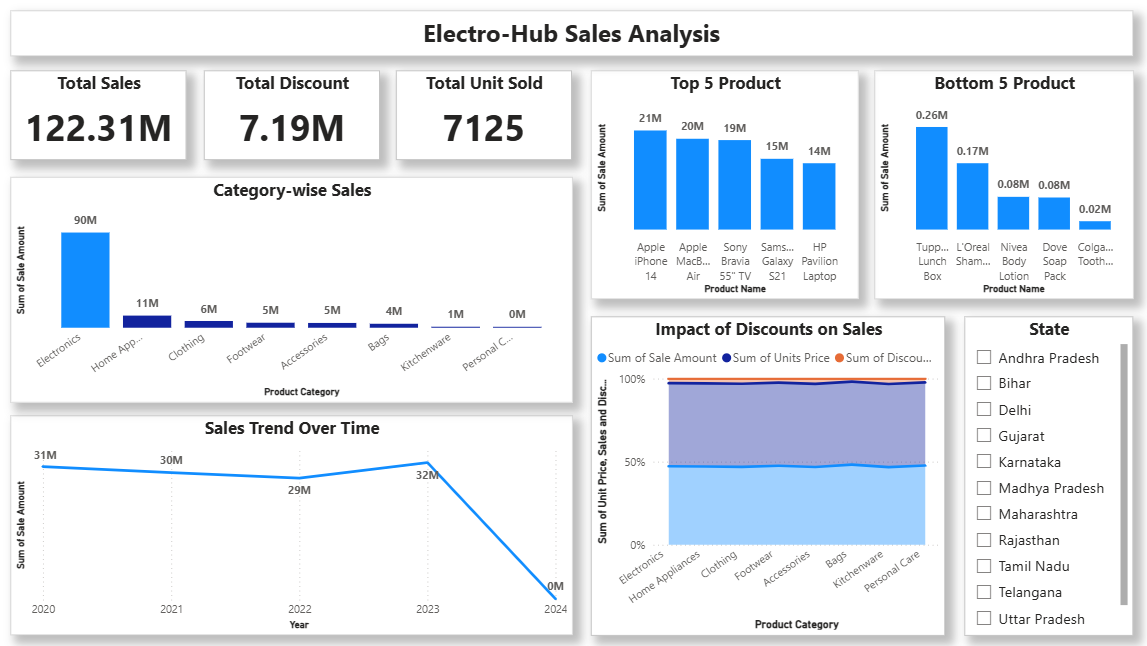

Layout of this report page (visuals, bound fields, positions):
{"tool":"powerbi","page":{"name":"Page 1","canvas":[1280,720],"ordinal":0},"visuals":[{"type":"textbox","box":[14.6,11.4,1247.6,50.4],"z":0},{"type":"card","title":"Total Sales","fields":{"Values":["Sum(Final Sales.Sale Amount)"]},"box":[14.6,78.1,195.2,99.2],"z":1000},{"type":"card","title":"Total Unit Sold","fields":{"Values":["Sum(Final Sales.Units Sold)"]},"box":[444,78.1,195.2,99.2],"z":2000},{"type":"card","title":"Total Discount","fields":{"Values":["Sum(Final Sales.Discounted Amount)"]},"box":[229.3,78.1,195.2,99.2],"z":3000},{"type":"lineChart","title":"Sales Trend Over Time","fields":{"Category":["Final Sales.Date (dd/mm/yyyy).Variation.Date Hierarchy.Year","Final Sales.Date (dd/mm/yyyy).Variation.Date Hierarchy.Quarter","Final Sales.Date (dd/mm/yyyy).Variation.Date Hierarchy.Month","Final Sales.Date (dd/mm/yyyy).Variation.Date Hierarchy.Day"],"Y":["Sum(Final Sales.Sale Amount)"]},"box":[14.6,461.9,624.6,244],"z":4000},{"type":"hundredPercentStackedAreaChart","title":"Impact of Discounts on Sales","fields":{"Category":["Final Sales.Product Category"],"Y":["Sum(Final Sales.Sale Amount)","Sum(Final Sales.Units Price)","Sum(Final Sales.Discounted Amount)"]},"box":[660.4,351.3,393.6,354.6],"z":5000},{"type":"columnChart","title":"Top 5 Product","fields":{"Category":["Final Sales.Product Name"],"Y":["Sum(Final Sales.Sale Amount)"]},"box":[660.4,78.1,297.7,253.7],"z":6000},{"type":"columnChart","title":"Bottom 5 Product","fields":{"Category":["Final Sales.Product Name"],"Y":["Sum(Final Sales.Sale Amount)"]},"box":[974.3,78.1,287.9,253.7],"z":7000},{"type":"slicer","title":"State","fields":{"Values":["Final Sales.Customers.State"]},"box":[1075.1,351.3,187.1,354.6],"z":8000},{"type":"columnChart","title":"Category-wise Sales","fields":{"Category":["Final Sales.Product Category"],"Y":["Sum(Final Sales.Sale Amount)"]},"box":[14.6,196.8,624.6,250.5],"z":9000}]}

Visuals, with their boxes in screenshot pixels (x1, y1, x2, y2), scaled from the page's 1280x720 canvas onto the 1147x646 screenshot:
textbox: l=13, t=10, r=1131, b=55
"Total Sales" card: l=13, t=70, r=188, b=159
"Total Unit Sold" card: l=398, t=70, r=573, b=159
"Total Discount" card: l=205, t=70, r=380, b=159
"Sales Trend Over Time" lineChart: l=13, t=414, r=573, b=633
"Impact of Discounts on Sales" hundredPercentStackedAreaChart: l=592, t=315, r=944, b=633
"Top 5 Product" columnChart: l=592, t=70, r=859, b=298
"Bottom 5 Product" columnChart: l=873, t=70, r=1131, b=298
"State" slicer: l=963, t=315, r=1131, b=633
"Category-wise Sales" columnChart: l=13, t=177, r=573, b=401
